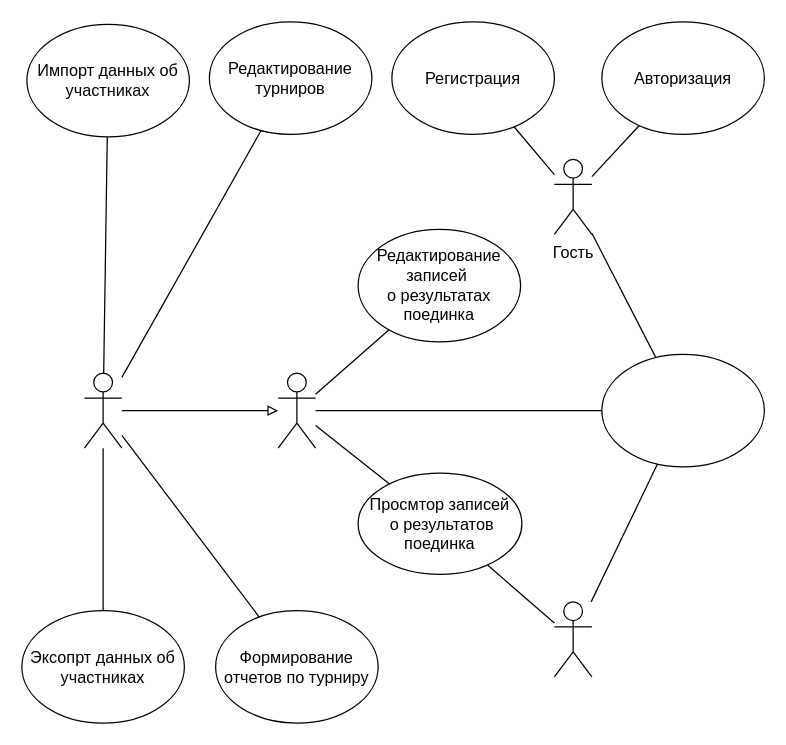
This 786x745 diagram has some shape labels left out. The shapes that lost their labels are listed below. From the top down, each one's centre as x and y in pixels, then its label:
At point 102,410: "Организатор".
At point 296,410: "Судья".
At point 682,410: "Просмотр списка турниров".
At point 572,639: "Участник".
